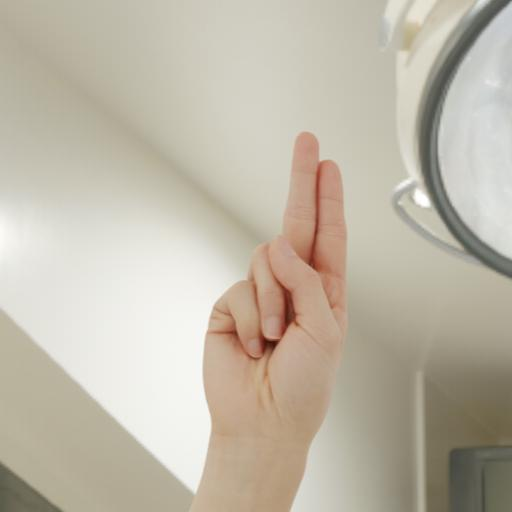U: (190, 109, 362, 467)
